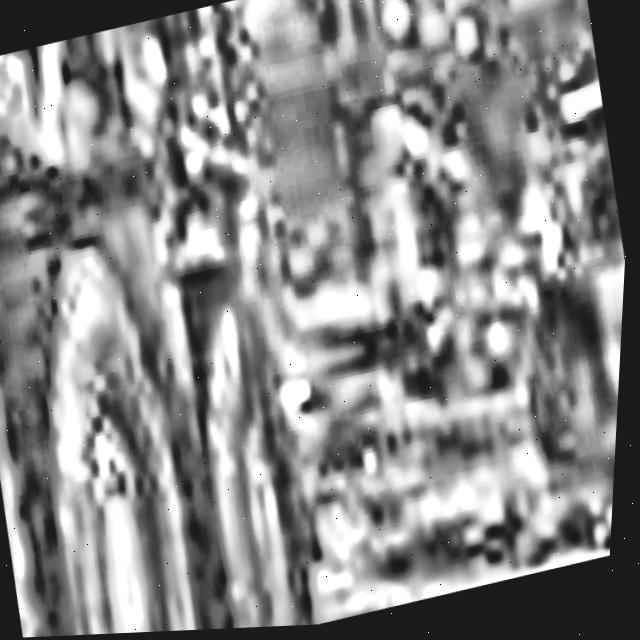dump_truck: (0, 0, 411, 640)
